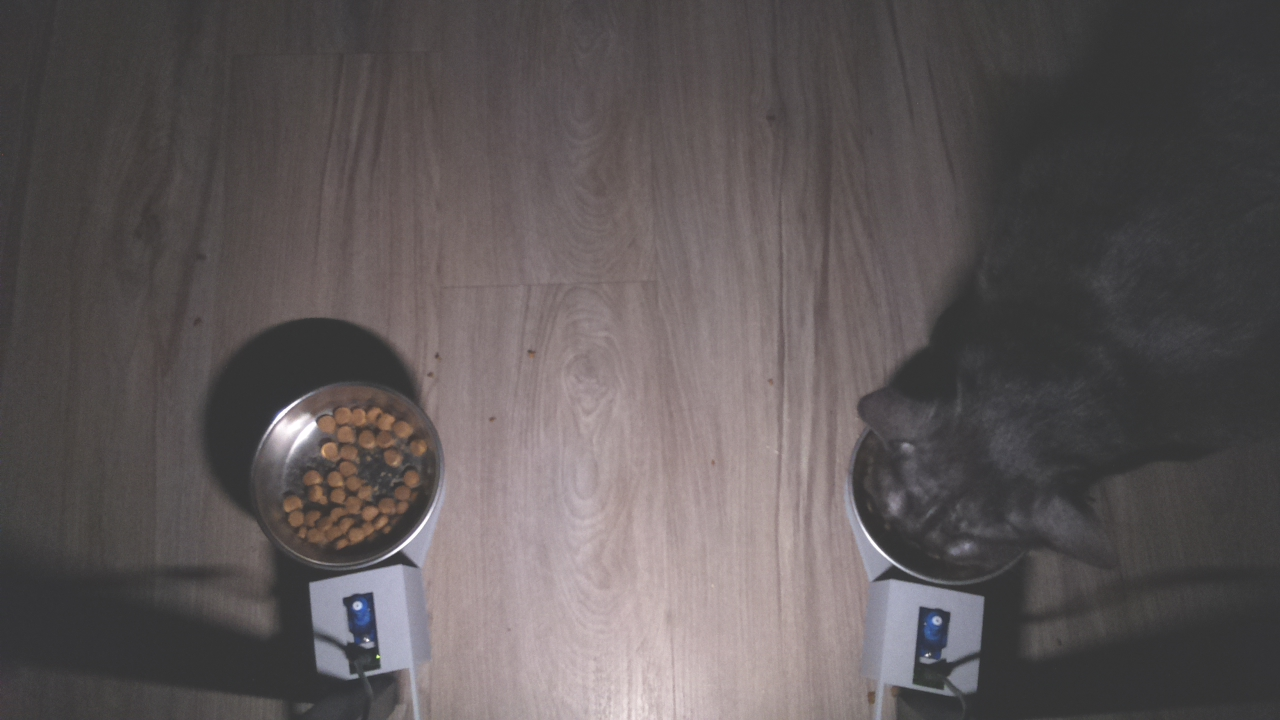open_bowl: (249, 376, 456, 577)
saki_eating: (842, 357, 1104, 598)
